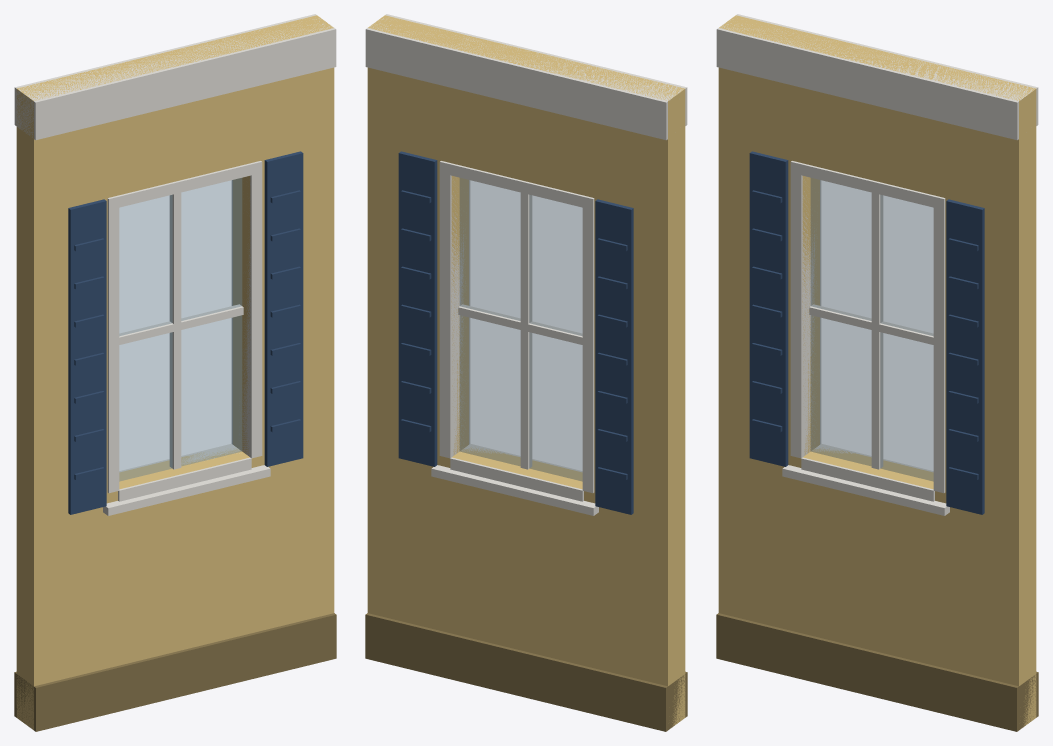
The model's file is mod-reboco-amarelo-janela.gltf.
3 views of the same model, side by side, from view 1: azimuth 30°, elevation 25°; view 2: azimuth 150°, elevation 25°; view 3: azimuth 330°, elevation 25° (orthographic).
Visible parts, largest first — view 1: mod-reboco-amarelo-janela; view 2: mod-reboco-amarelo-janela; view 3: mod-reboco-amarelo-janela.
Part boxes in pixels (left/top/right/bottom): mod-reboco-amarelo-janela: left=14, top=14, right=336, bottom=731; mod-reboco-amarelo-janela: left=365, top=14, right=687, bottom=731; mod-reboco-amarelo-janela: left=716, top=14, right=1038, bottom=731.
Bounding box in the file's own units: 1 × 2 × 0.16.
